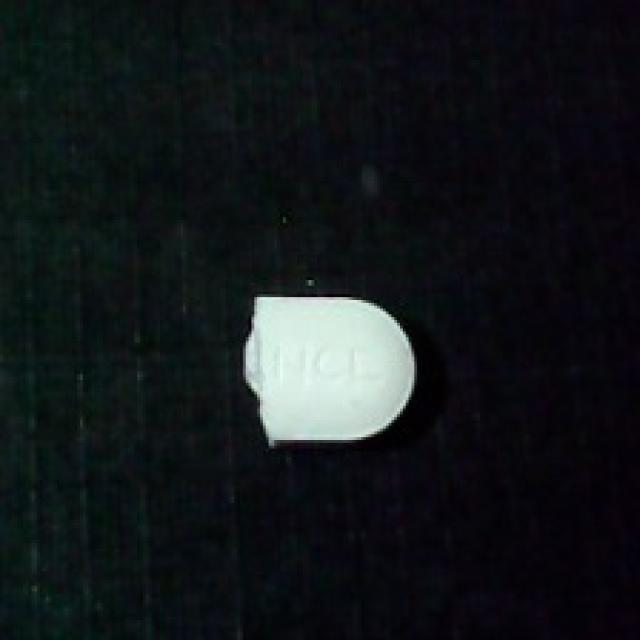defected: (229, 283, 440, 454)
